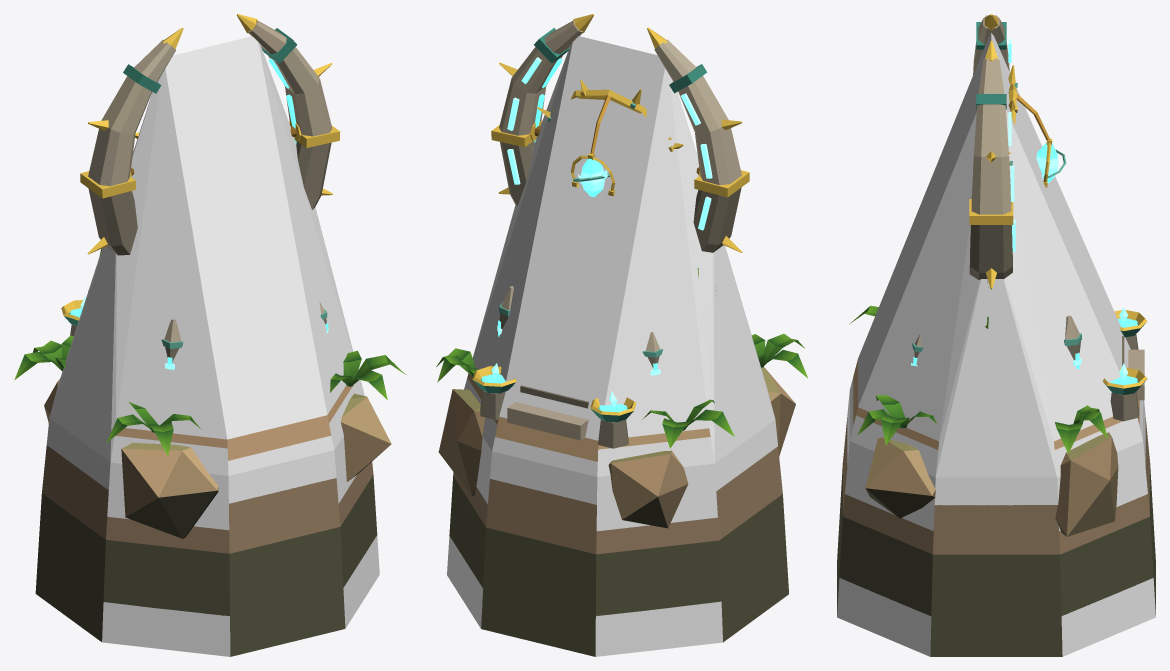
Rendered from ancient_tidal_obelisk_mirror.glb.
3 renders of one model, left to right at view 1: azimuth 30°, elevation 25°; view 2: azimuth 150°, elevation 25°; view 3: azimuth 270°, elevation 25°, orthographic.
Parts seen in each view (by area): view 1: col_mirror_base, AncientTidalObeliskMirror; view 2: col_mirror_base, AncientTidalObeliskMirror; view 3: col_mirror_base, AncientTidalObeliskMirror.
Part boxes in pixels (x1=…): col_mirror_base: x1=46, y1=36, x2=379, y2=656; AncientTidalObeliskMirror: x1=14, y1=14, x2=405, y2=656; col_mirror_base: x1=447, y1=36, x2=777, y2=656; AncientTidalObeliskMirror: x1=436, y1=14, x2=808, y2=656; col_mirror_base: x1=837, y1=33, x2=1155, y2=656; AncientTidalObeliskMirror: x1=837, y1=14, x2=1155, y2=656.
Bounding box in the file's own units: 5.52 × 9.85 × 5.06.
